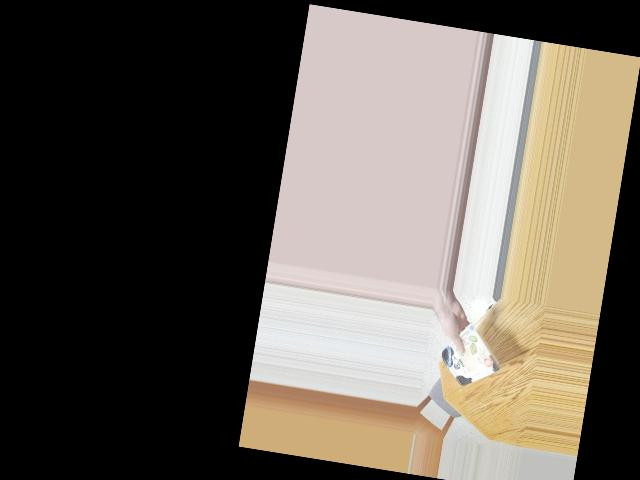cheese: (445, 326, 496, 388)
